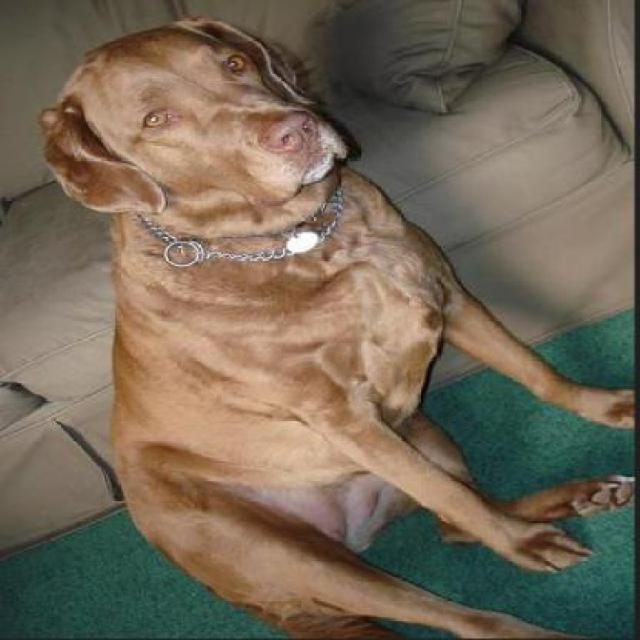Dog: (35, 17, 637, 638)
